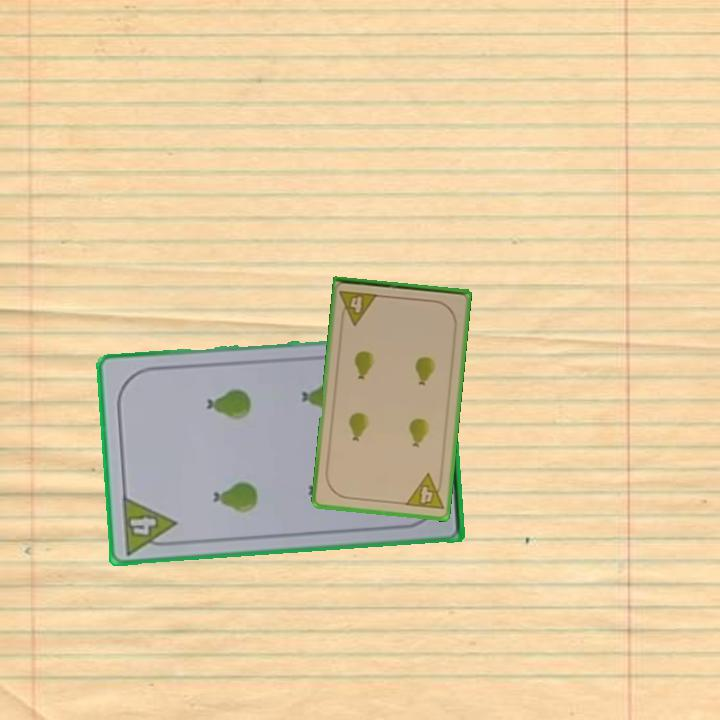4p: (118, 492, 180, 558), (402, 470, 446, 513), (336, 287, 381, 328)
